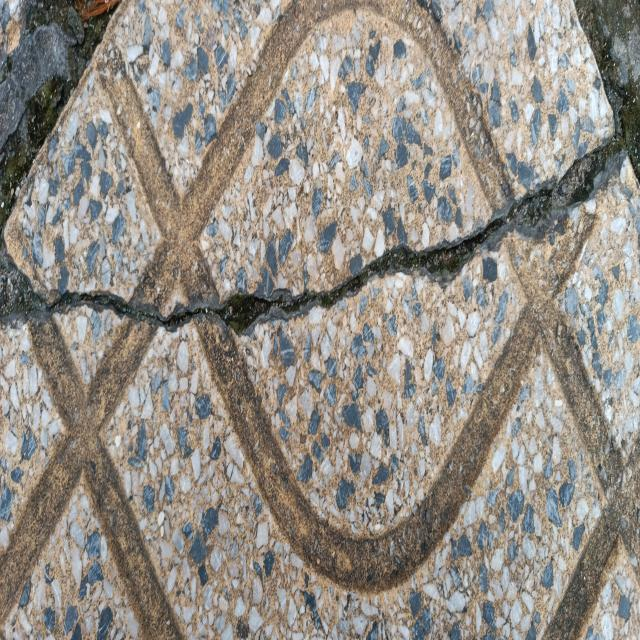horizontal crack: (0, 141, 618, 334)
